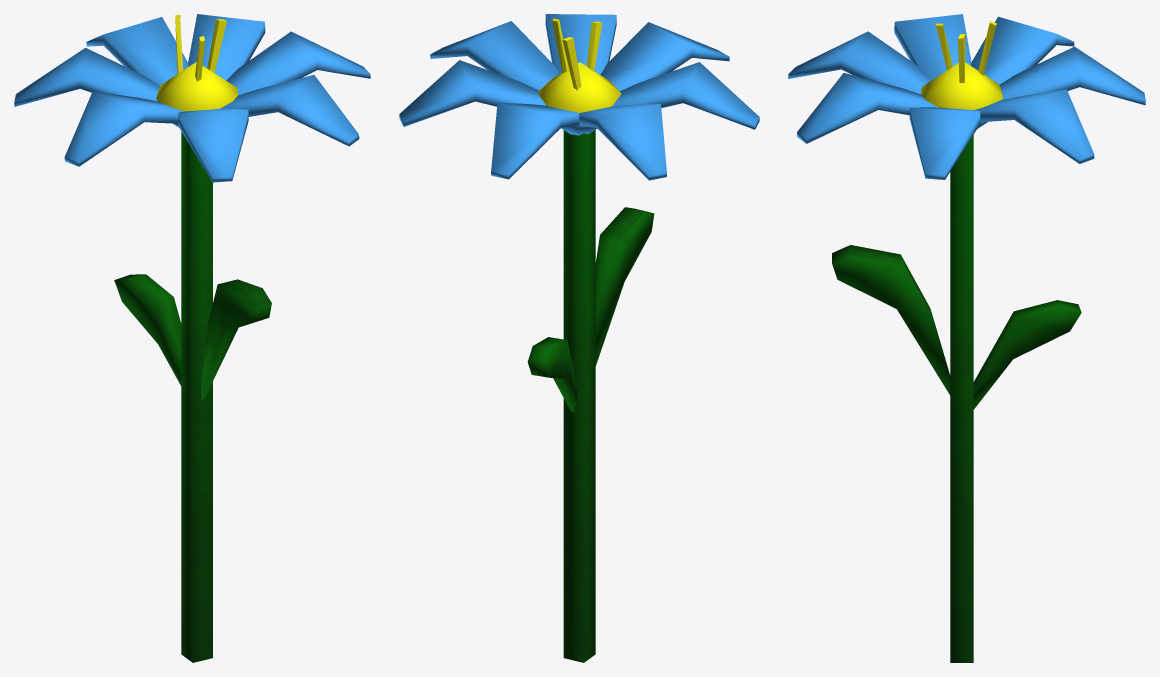
The model's file is lily.fbx.
3 renders of one model, left to right at view 1: azimuth 30°, elevation 25°; view 2: azimuth 150°, elevation 25°; view 3: azimuth 270°, elevation 25°, orthographic.
Visible parts, largest first — view 1: lily; view 2: lily; view 3: lily.
Part boxes in pixels (box(x1,y1,x2,y2)): lily: box(14, 14, 370, 662); lily: box(399, 14, 759, 662); lily: box(788, 14, 1145, 662).
Bounding box in the file's own units: 0.3136 × 0.6066 × 0.3101.
